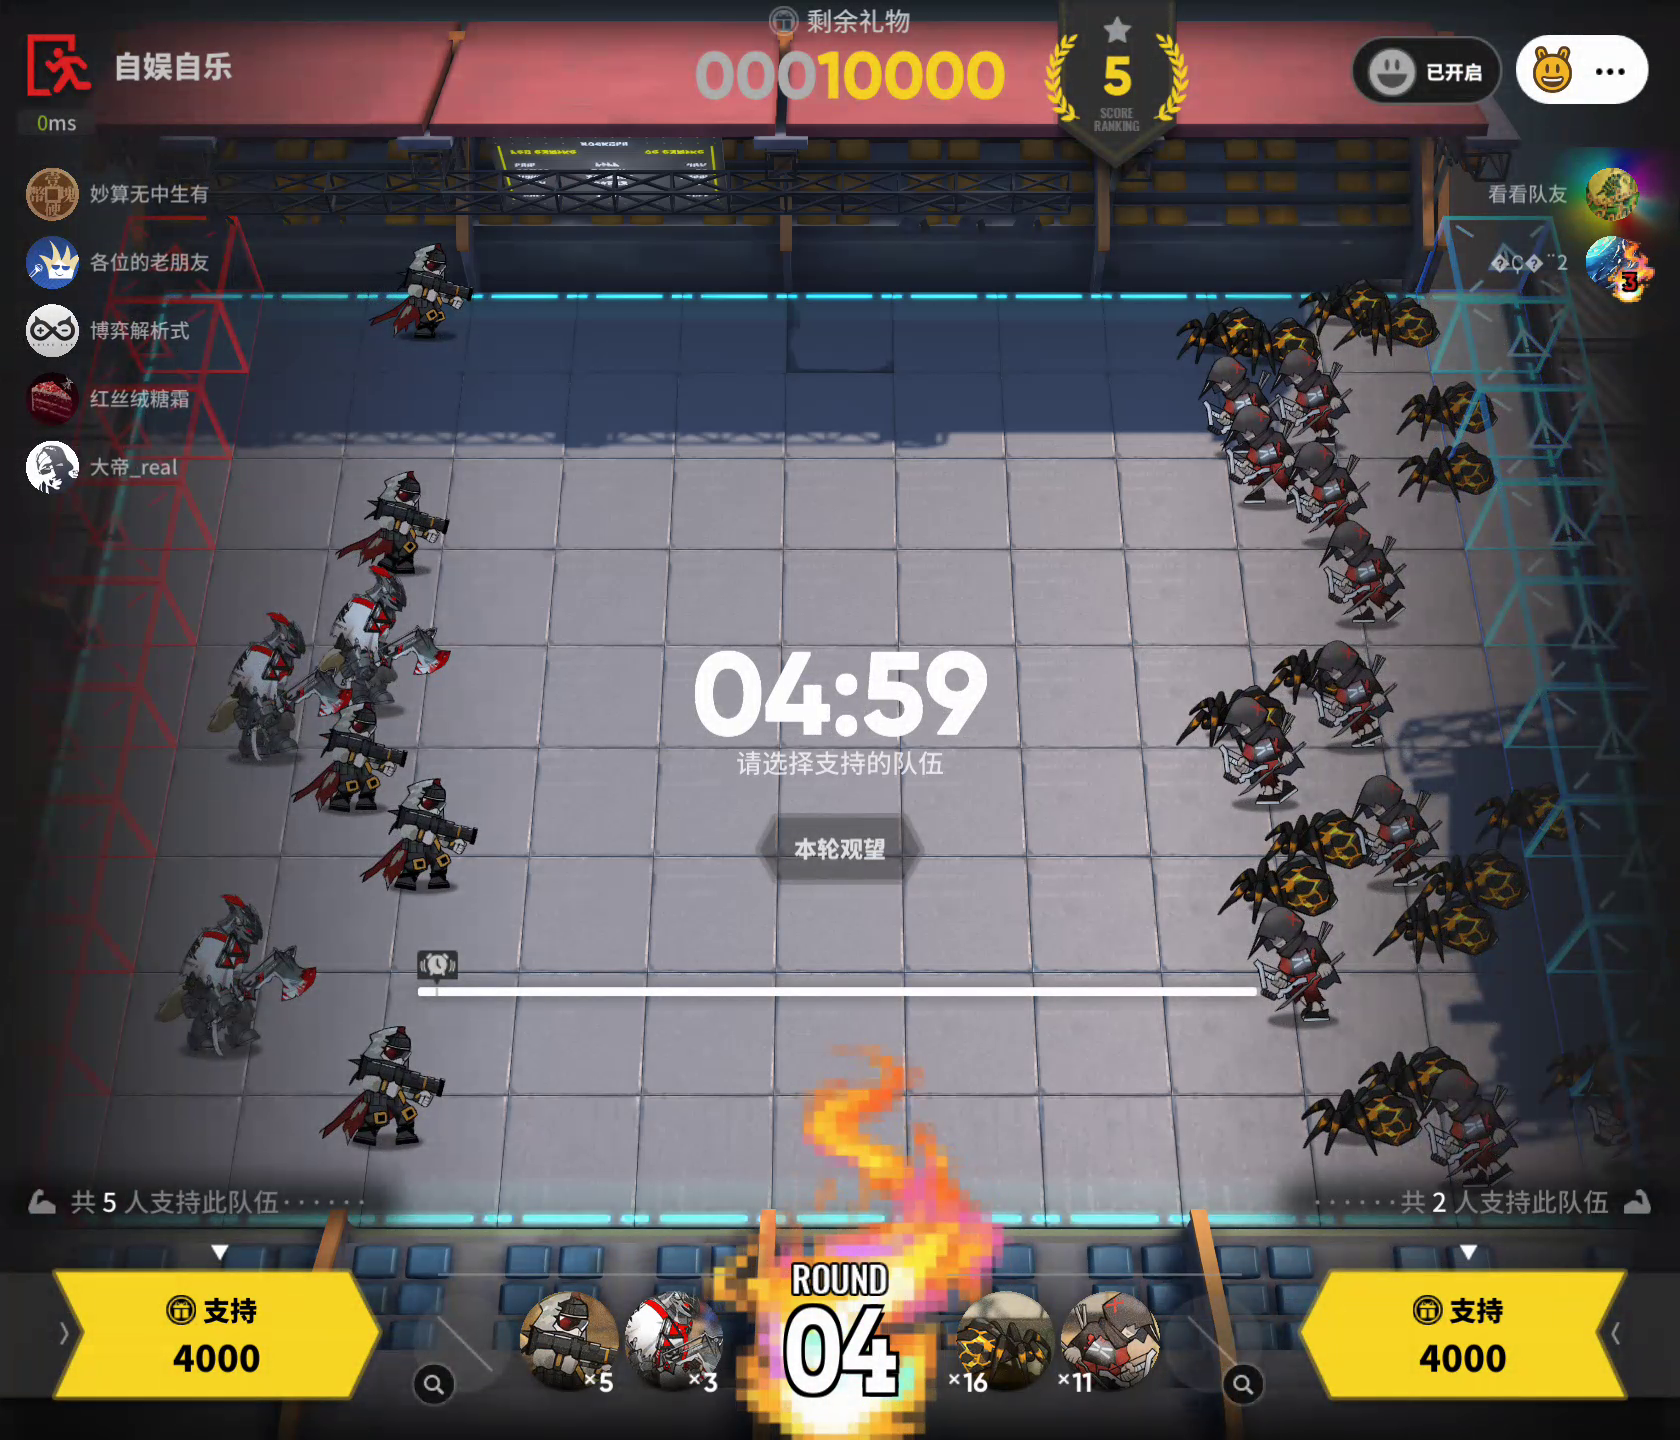劈柴骑士: (143, 887, 326, 1070), (209, 606, 357, 776), (316, 563, 459, 710), (626, 1286, 737, 1394)
易爆源石虫: (1201, 841, 1359, 924), (1364, 889, 1507, 976), (1257, 630, 1414, 709), (951, 1289, 1054, 1394), (1389, 439, 1514, 521), (1296, 1081, 1427, 1160), (1474, 774, 1591, 860), (1341, 1036, 1477, 1109), (1266, 797, 1387, 874), (1181, 677, 1296, 754), (1549, 1026, 1666, 1096), (1217, 310, 1330, 381), (1391, 376, 1511, 441), (1163, 294, 1277, 357), (1427, 847, 1536, 906), (1341, 291, 1439, 354), (1297, 274, 1399, 333)
榴弹佣兵: (283, 691, 414, 841), (317, 1016, 450, 1154), (351, 771, 489, 897), (330, 454, 460, 579), (361, 236, 477, 353), (514, 1284, 626, 1391)
衣架射手: (1419, 1059, 1534, 1199), (1574, 1051, 1679, 1191), (1341, 766, 1450, 896), (1244, 901, 1350, 1034), (1061, 1283, 1169, 1399), (1216, 687, 1314, 806), (1309, 640, 1404, 750), (1319, 516, 1414, 619), (1289, 426, 1376, 539), (1193, 344, 1281, 454), (1220, 399, 1301, 507), (1270, 346, 1359, 441)
